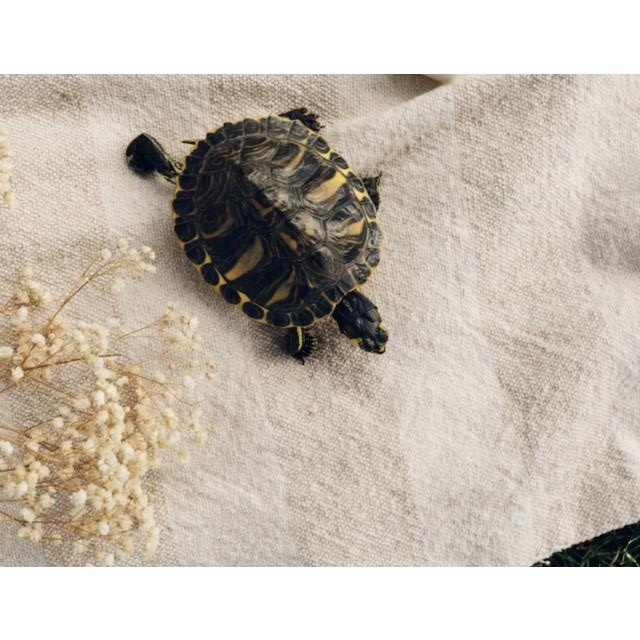turtle: (123, 105, 391, 363)
